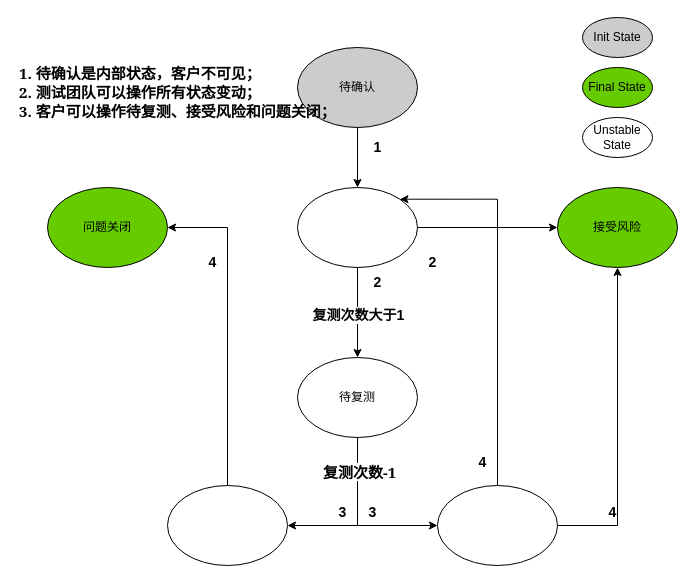
This 695x583 diagram has some shape labels left out. The shapes that lost their labels are listed below. From the top down, each one's box as (x1, y1, x2, y2) in pixels, then its label:
(296, 186, 418, 268): 待修复
(166, 484, 288, 566): 复测通过
(436, 484, 558, 566): 复测不通过
